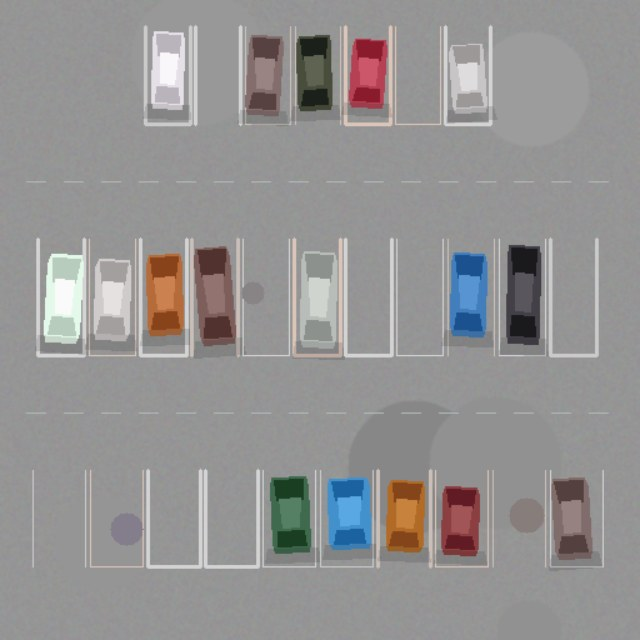space-empty: (242, 239, 289, 355), (345, 239, 391, 355), (396, 239, 442, 355), (550, 239, 596, 355), (90, 470, 143, 566), (147, 470, 200, 566), (33, 470, 85, 566), (205, 470, 257, 566), (493, 470, 545, 566), (195, 26, 240, 124), (395, 26, 440, 124)
space-occupied: (191, 239, 238, 355), (38, 239, 84, 355), (89, 239, 135, 355), (140, 239, 186, 355), (294, 239, 340, 355), (448, 239, 494, 355), (499, 239, 545, 355), (320, 470, 373, 566), (377, 470, 430, 566), (550, 470, 603, 566), (263, 470, 315, 566), (435, 470, 487, 566), (145, 26, 190, 124), (245, 26, 290, 124), (295, 26, 340, 124), (345, 26, 390, 124), (445, 26, 490, 124)
